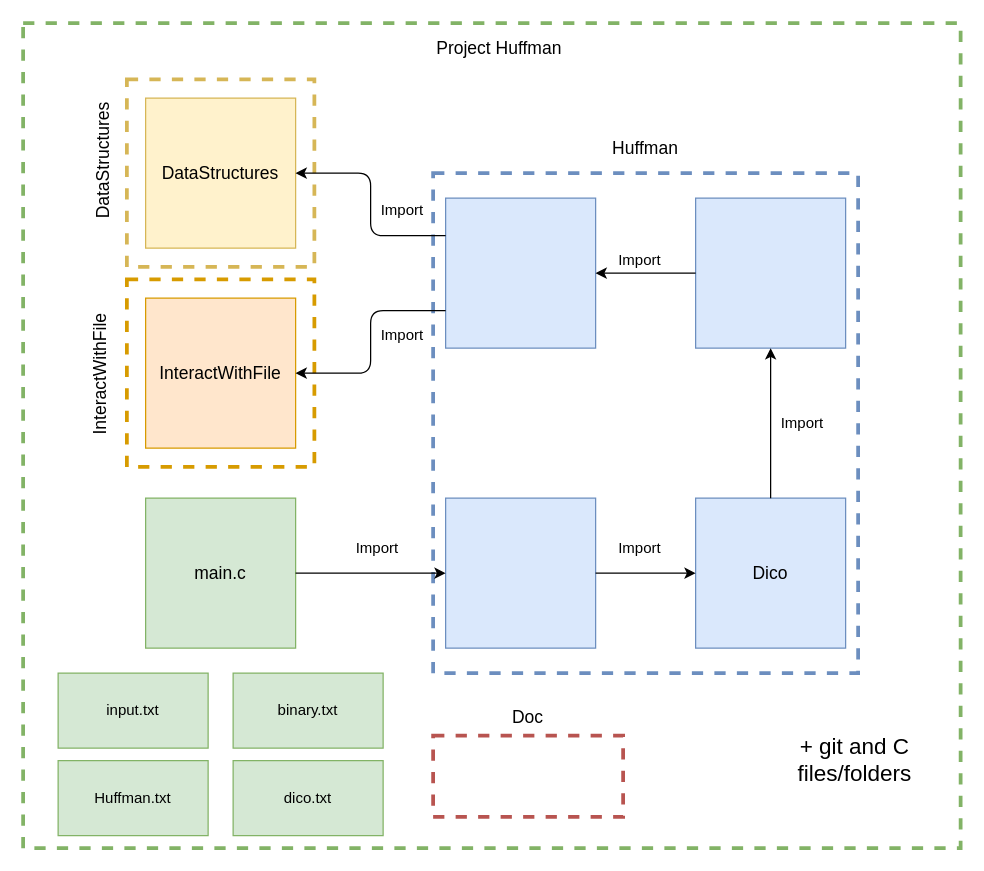
Image size: 984x871. Some labels were removed from this diagram. The box of each missing label's shape, as (x1, y1, x2, y2) in pixels:
Coding Encode, Decode: (444, 497, 596, 648)
HuffmanTree: (694, 197, 846, 348)
Occurrences: (444, 197, 596, 348)
PDF, DOCX, PNG, etc..: (431, 733, 624, 818)
